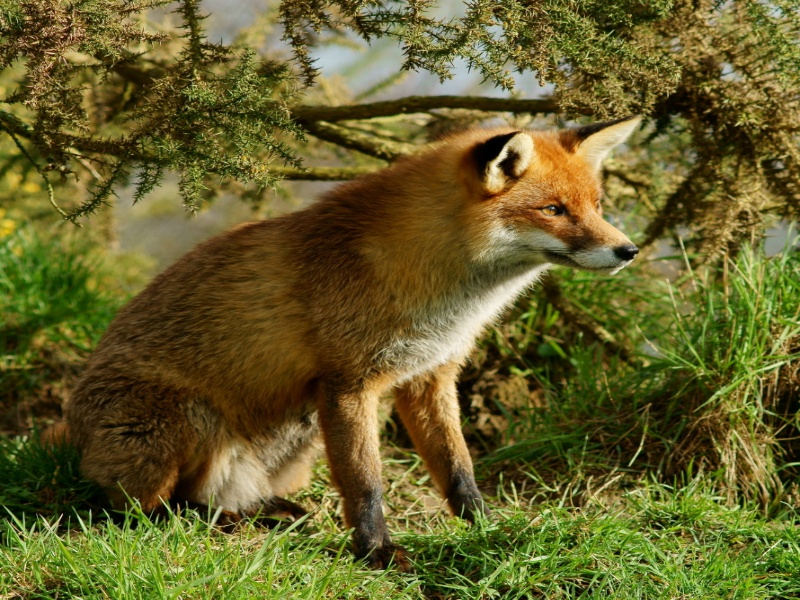fox: (38, 107, 650, 578)
